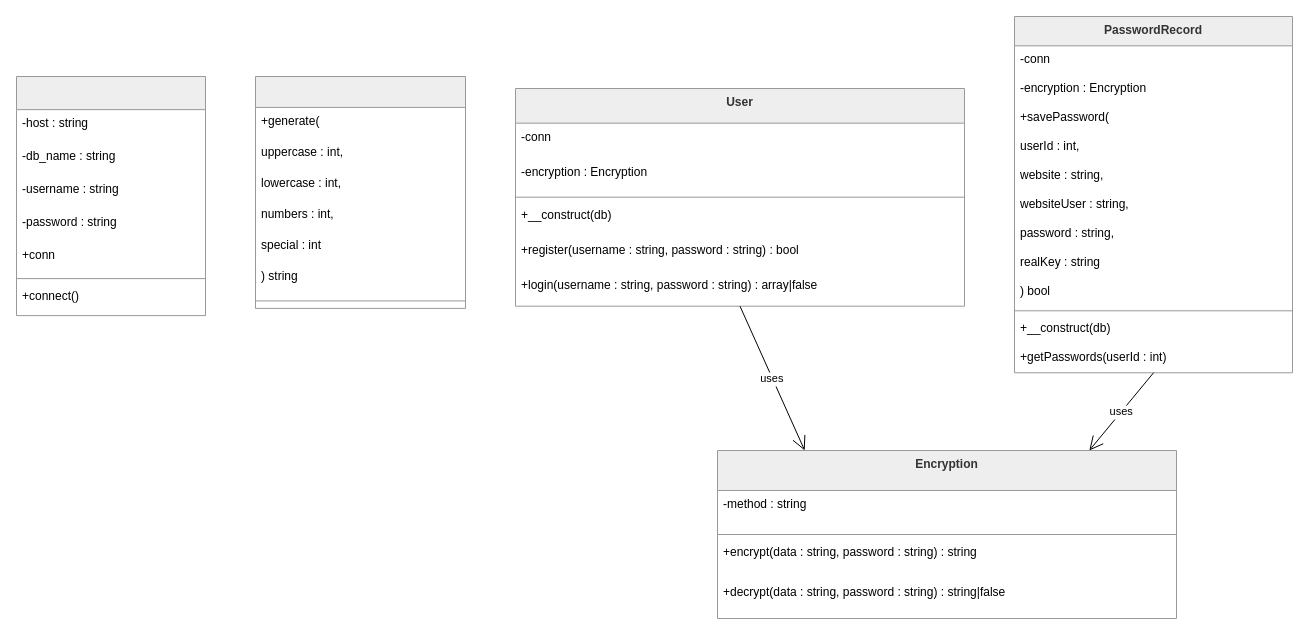
Some shapes in this 1309 by 635 pixel diagram are drawn without their labels. The box of each missing label's shape, as (x1, y1, x2, y2) in pixels:
Database: (16, 76, 206, 316)
PasswordGenerator: (254, 76, 466, 308)
